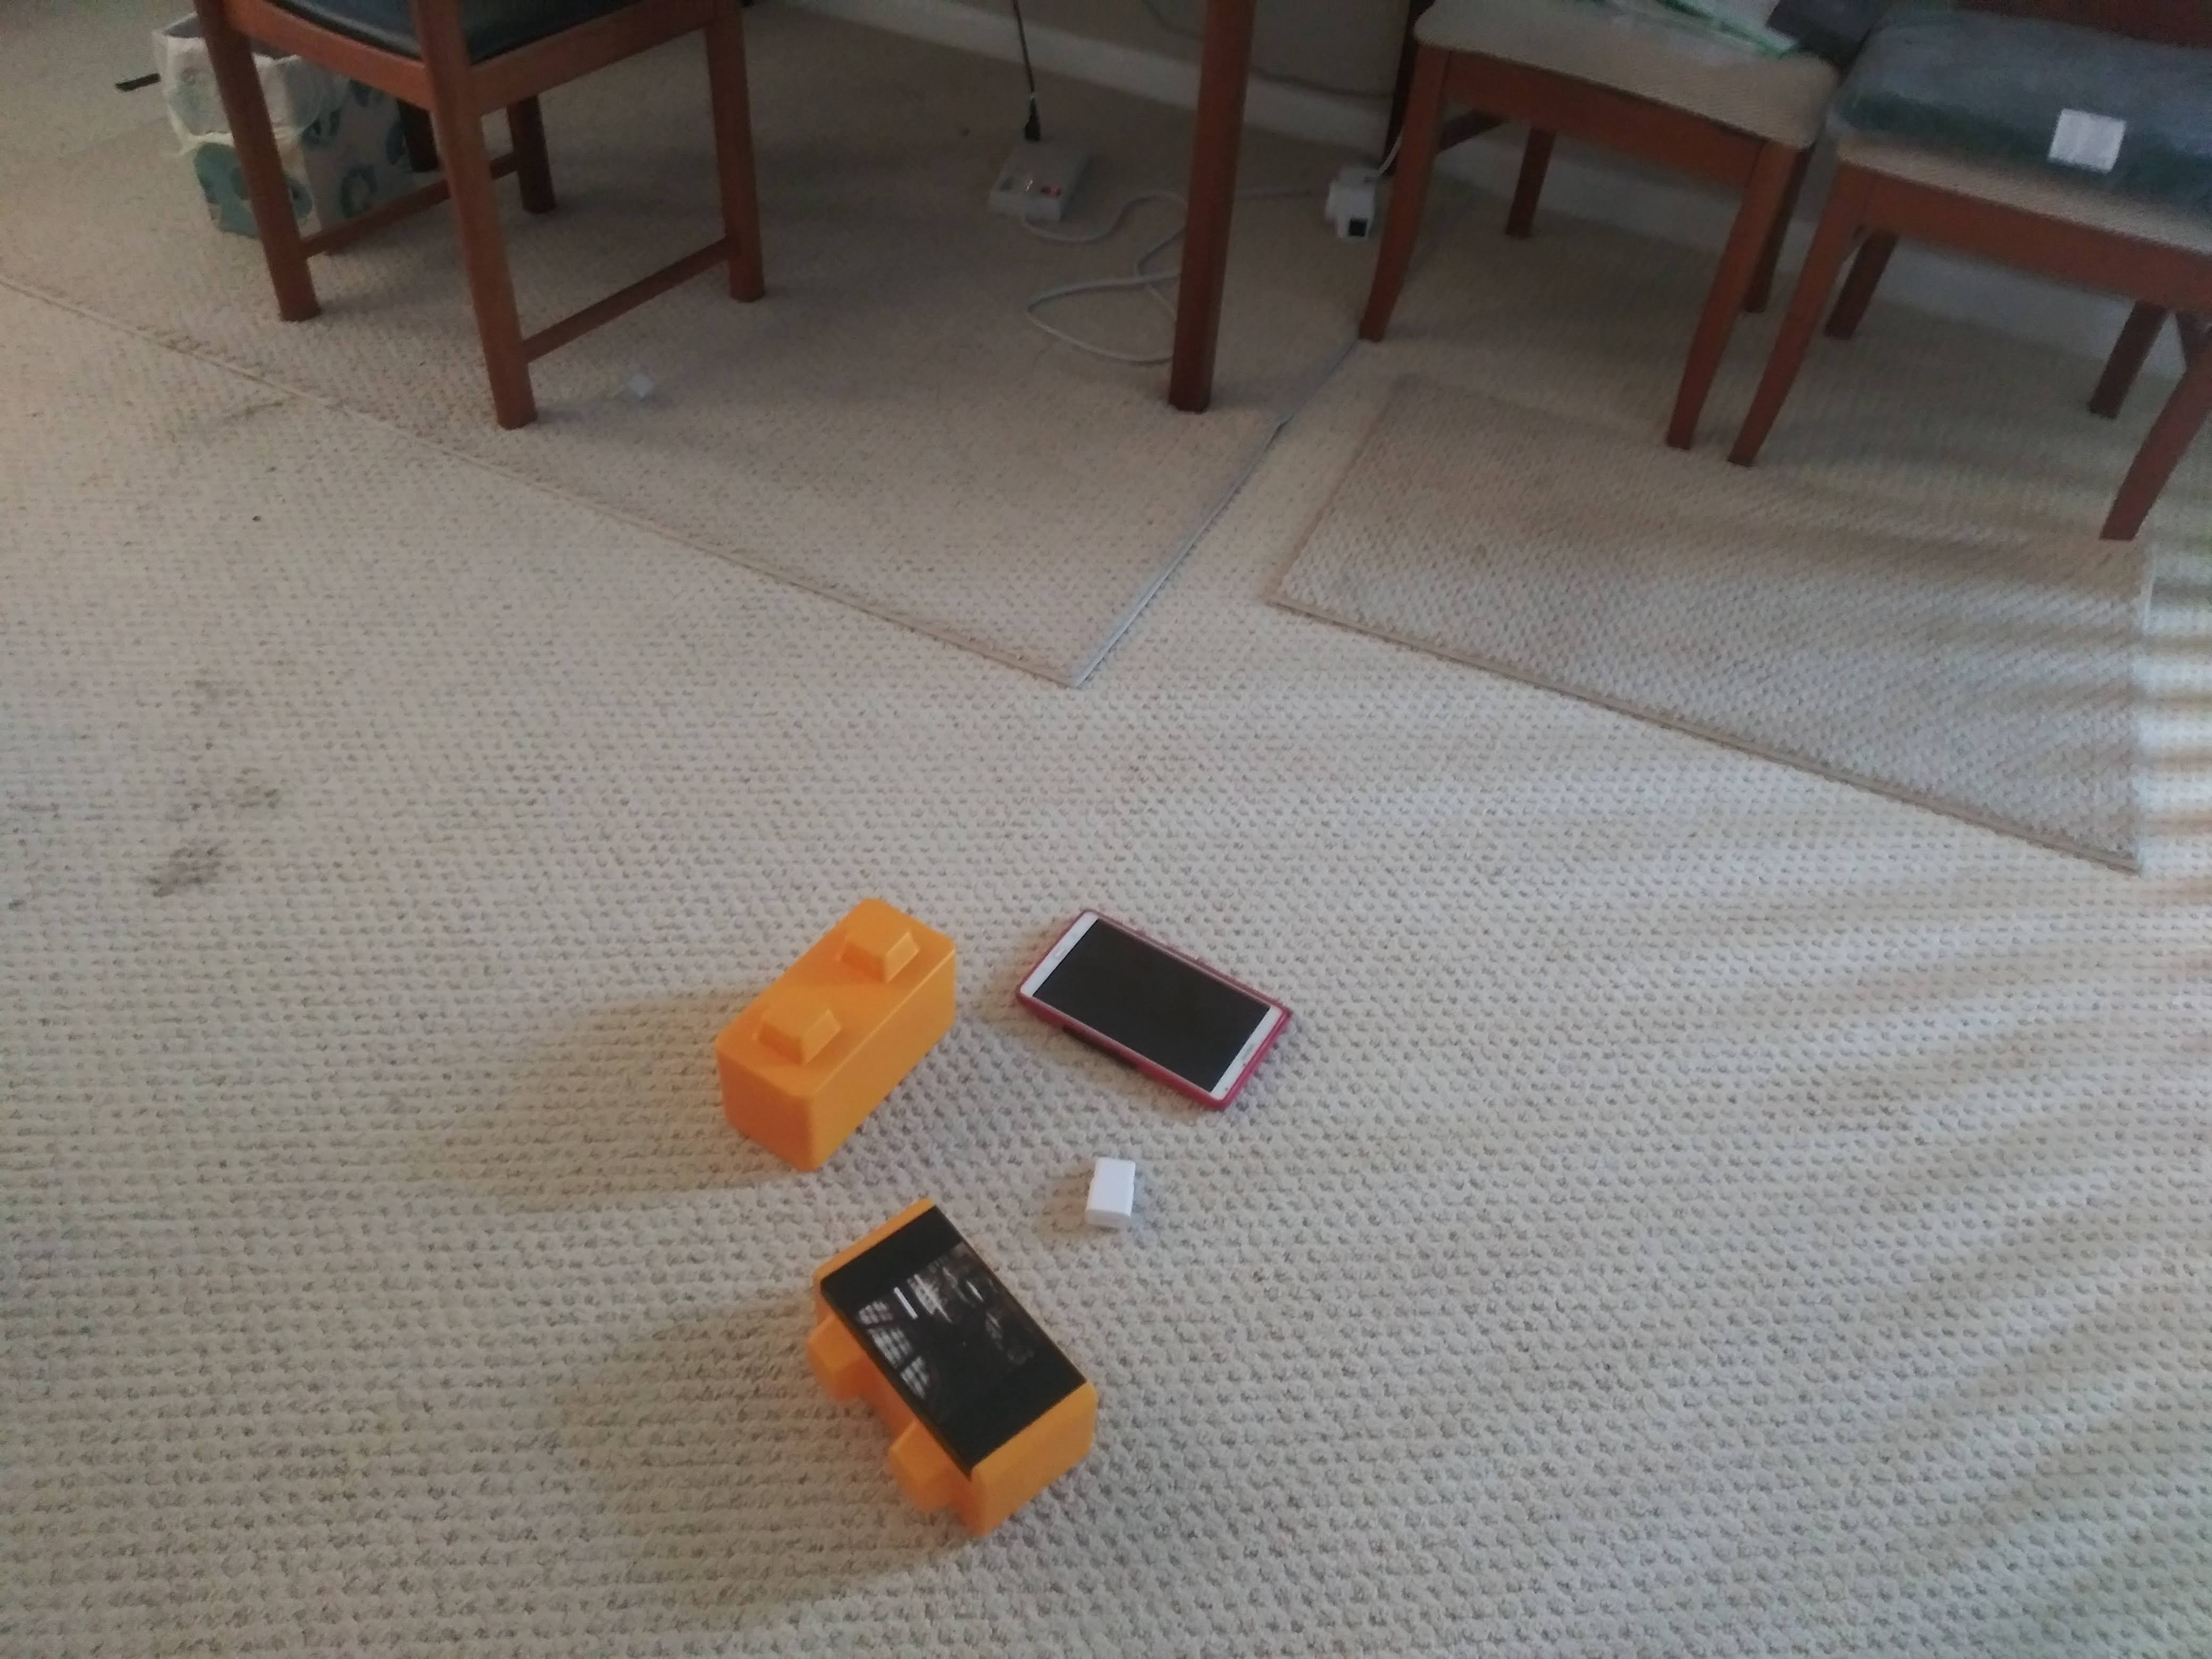skystone: (806, 1208, 1089, 1530)
stone: (714, 906, 953, 1155)
